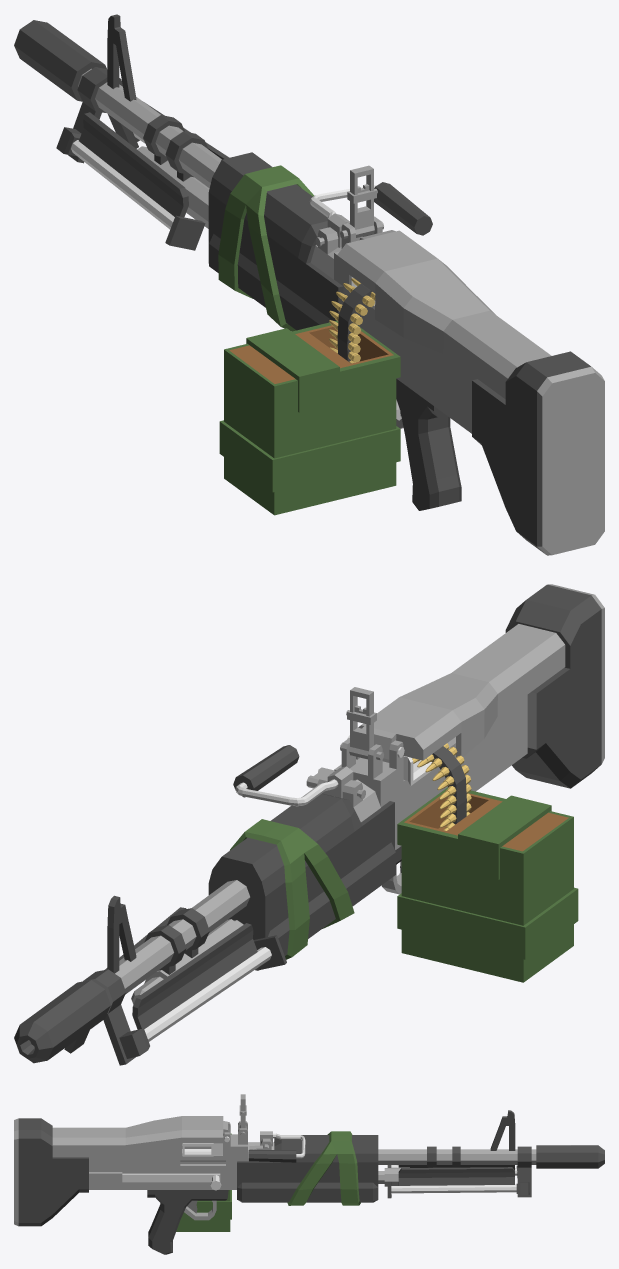
File: RamboWeapon.fbx
The picture shows the model from 3 angles, top to bottom: view 1: azimuth 30°, elevation 25°; view 2: azimuth 150°, elevation 25°; view 3: azimuth 270°, elevation 25°; orthographic projection. The views are drawn at different scales.
Visible parts, largest first — view 1: M60; view 2: M60; view 3: M60.
Part boxes in pixels (left/top/right/bottom): M60: left=14, top=14, right=604, bottom=555; M60: left=14, top=584, right=604, bottom=1065; M60: left=14, top=1094, right=604, bottom=1254.
Size of the model in its own units: 0.9037 by 1.06 by 3.67.
